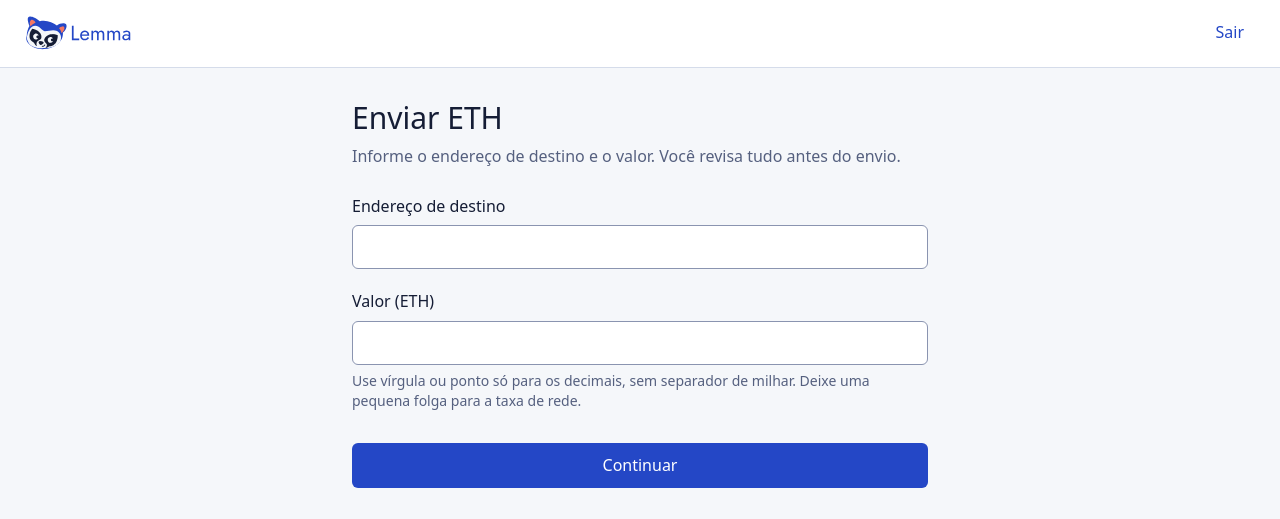
SendPage: revisão › mostra o valor com todas as casas, sem arredondar
The image size is (1280, 519).
Expected: the heading "Enviar ETH" is shown, x1=352 y1=97 x2=503 y2=138
Type "0x5B38Da6a701c568545dCfcB03FcB875f56beddC4" into the field labelled "Endereço de destino".
click(640, 247); type("0x5B38Da6a701c568545dCfcB03FcB875f56beddC4")  # box x1=352 y1=225 x2=928 y2=269
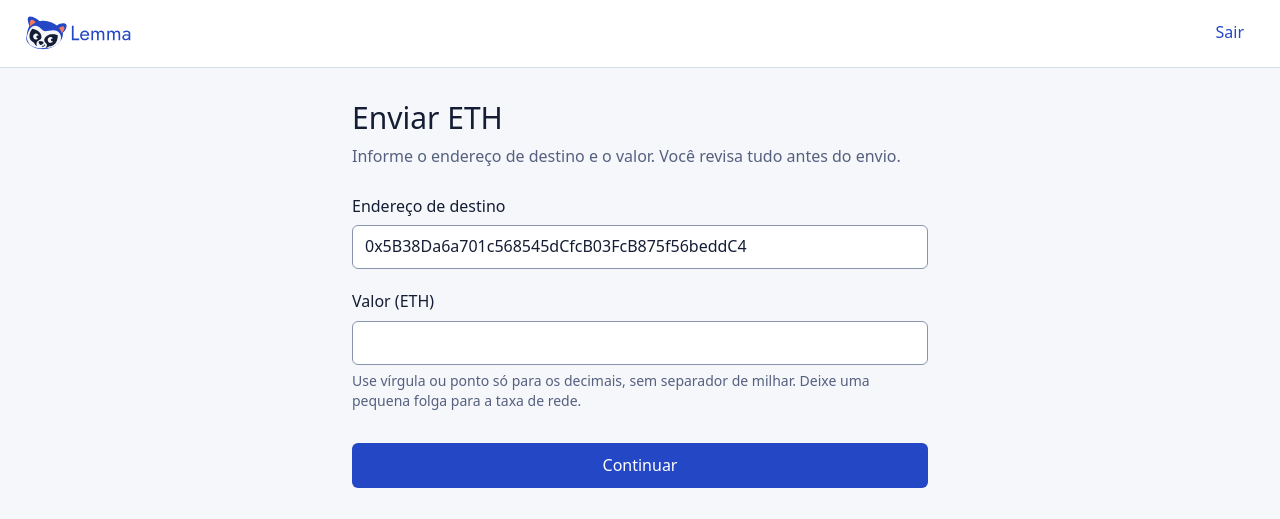
Type "12345.123456789012345678" into the field labelled "Valor (ETH)".
click(640, 343); type("12345.123456789012345678")  # box x1=352 y1=321 x2=928 y2=365
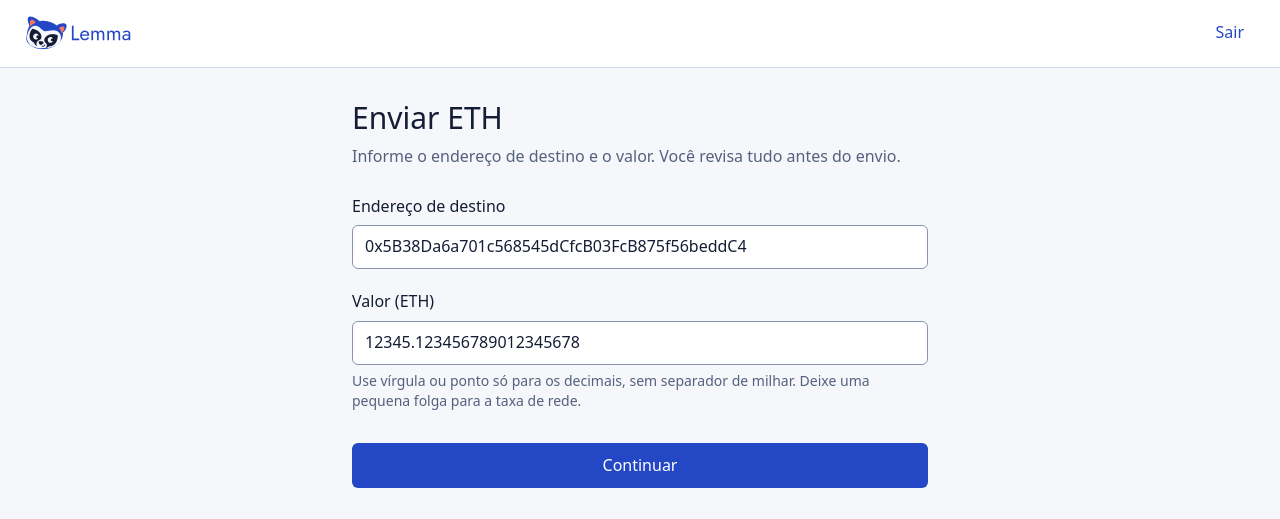
Click the button "Continuar".
click(640, 466)  # box x1=352 y1=443 x2=928 y2=488
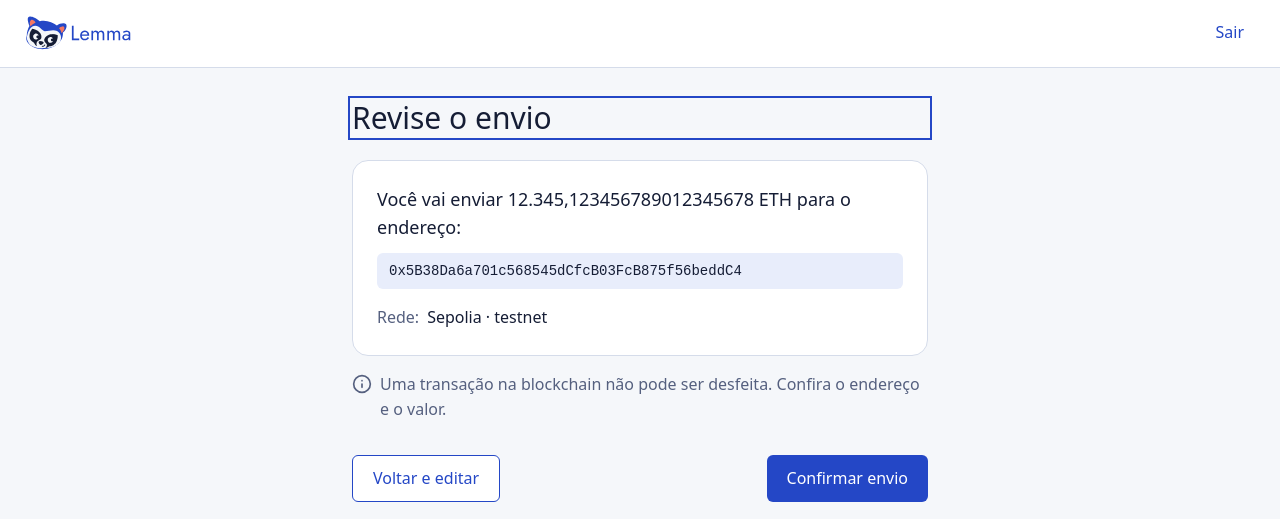
Result: the heading "Revise o envio" is shown at x1=352 y1=97 x2=552 y2=138
Result: the text "12.345,123456789012345678 ETH" is shown at x1=508 y1=187 x2=792 y2=211
